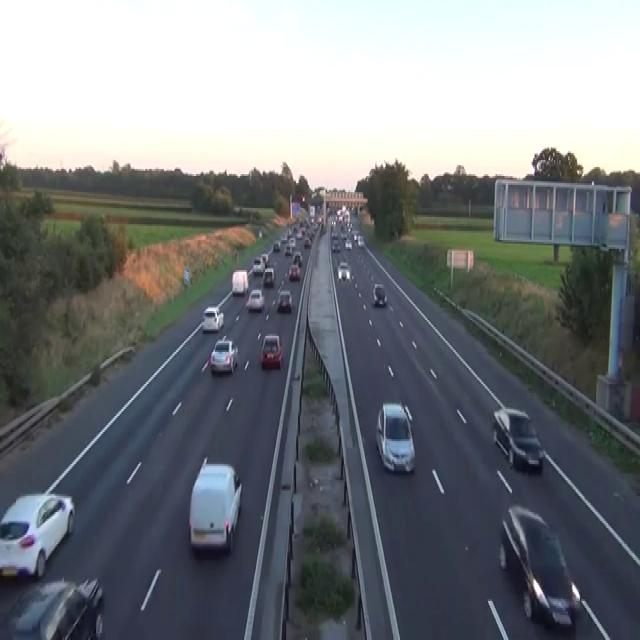Car: (498, 505, 581, 629), (0, 492, 75, 578), (0, 576, 104, 638), (188, 455, 242, 553), (493, 407, 544, 471), (375, 400, 415, 473), (330, 202, 365, 282), (210, 336, 238, 373), (260, 332, 283, 368), (202, 306, 224, 330), (231, 269, 248, 295), (245, 288, 264, 311), (373, 282, 387, 306), (277, 290, 292, 311), (337, 259, 350, 281), (262, 267, 275, 286), (288, 263, 300, 281), (252, 256, 264, 274), (292, 251, 302, 265), (331, 238, 340, 251), (260, 252, 268, 265), (284, 244, 292, 256), (344, 238, 352, 249), (357, 235, 364, 247), (296, 228, 304, 238), (273, 240, 280, 251), (446, 183, 454, 192), (304, 237, 311, 247), (288, 237, 295, 247), (233, 204, 240, 213), (281, 234, 288, 243), (331, 230, 338, 238), (340, 230, 347, 238), (317, 215, 323, 224), (353, 231, 358, 240), (258, 228, 262, 238), (301, 194, 305, 202), (287, 228, 291, 236), (310, 215, 314, 222)
Truck: (308, 205, 315, 222)
